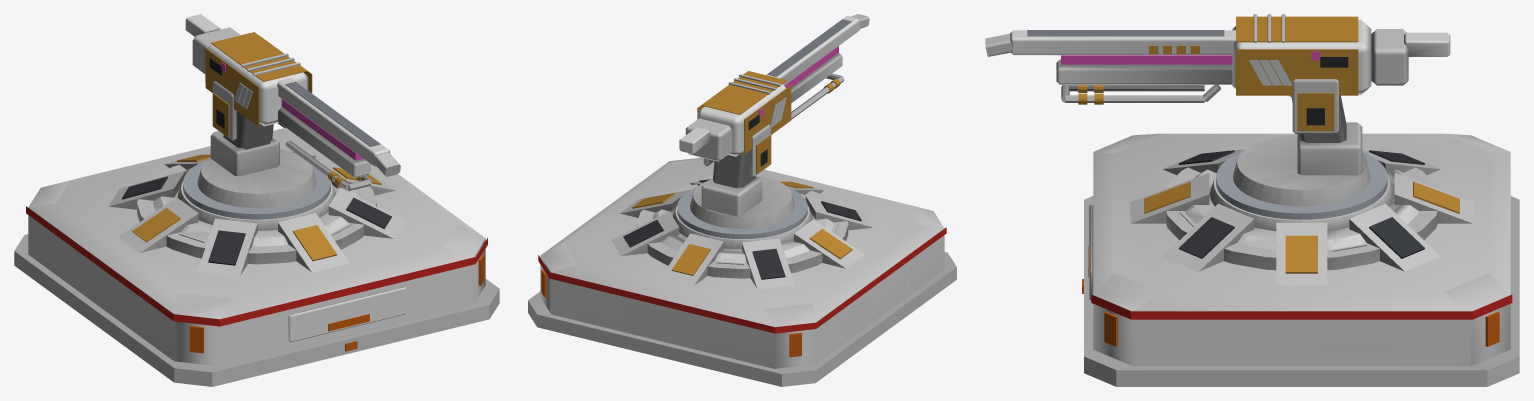
Rendered from sniper_0.glb.
3 renders of one model, left to right at view 1: azimuth 30°, elevation 25°; view 2: azimuth 150°, elevation 25°; view 3: azimuth 270°, elevation 25°, orthographic. The views are drawn at different scales.
Visible parts, largest first — view 1: Rumpf, Railgun, Lagerbock, Ladung; view 2: Rumpf, Railgun, Lagerbock, Ladung; view 3: Rumpf, Railgun, Lagerbock, Ladung.
Part boxes in pixels (x1,y1,x2,y2): Rumpf: (14, 128, 499, 386); Railgun: (185, 14, 400, 190); Lagerbock: (197, 81, 316, 207); Ladung: (221, 62, 363, 160); Rumpf: (528, 157, 956, 386); Railgun: (679, 14, 869, 161); Lagerbock: (690, 124, 794, 228); Ladung: (759, 46, 838, 116); Rumpf: (1082, 133, 1519, 386); Railgun: (985, 14, 1450, 104); Lagerbock: (1233, 79, 1370, 206); Ladung: (1061, 51, 1320, 64).
Bounding box in the file's own units: 0.94 × 0.638 × 1.15.
